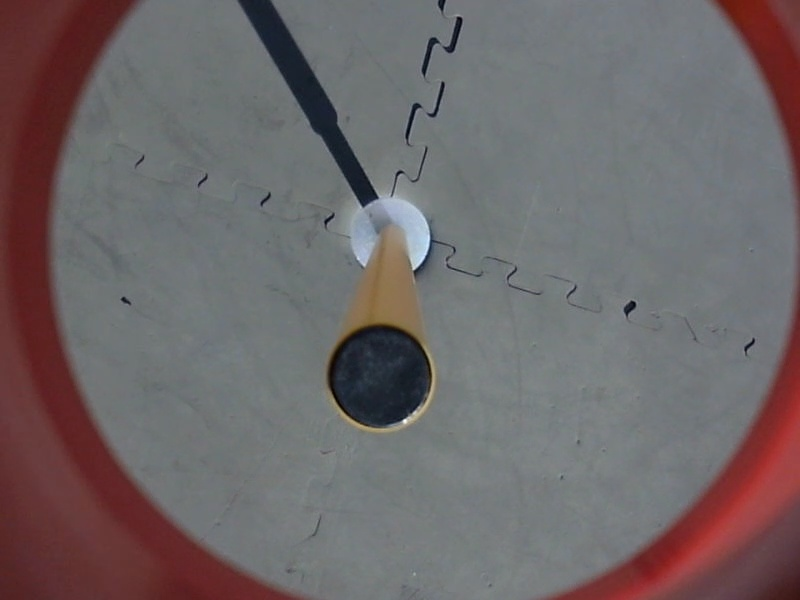tip: (322, 318, 440, 435)
